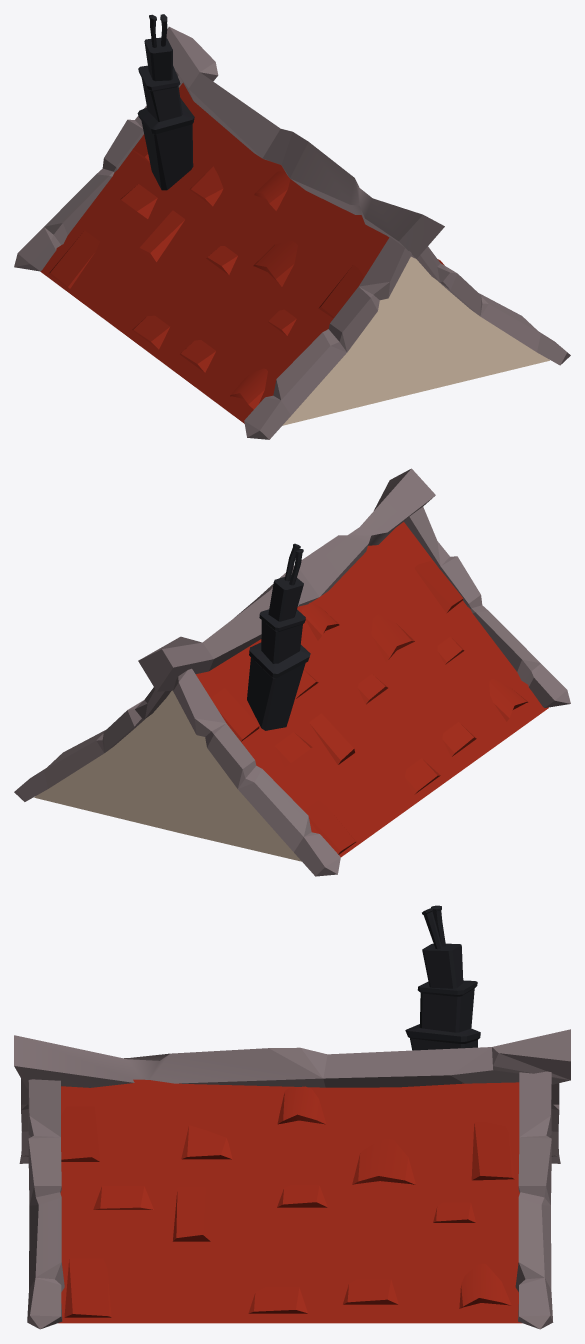
The model's file is SM_L_R_Roof_1.fbx.
3 renders of one model, top to bottom at view 1: azimuth 30°, elevation 25°; view 2: azimuth 150°, elevation 25°; view 3: azimuth 270°, elevation 25°, orthographic. The views are drawn at different scales.
Parts seen in each view (by area): view 1: SM_L_R_Roof1; view 2: SM_L_R_Roof1; view 3: SM_L_R_Roof1.
Part boxes in pixels (box(x1,y1,x2,y2)): SM_L_R_Roof1: box(14, 14, 570, 439); SM_L_R_Roof1: box(14, 468, 570, 876); SM_L_R_Roof1: box(14, 905, 570, 1329).
Bounding box in the file's own units: 4.74 × 3.75 × 6.32.
Materials: 1 (1 with a texture image).
